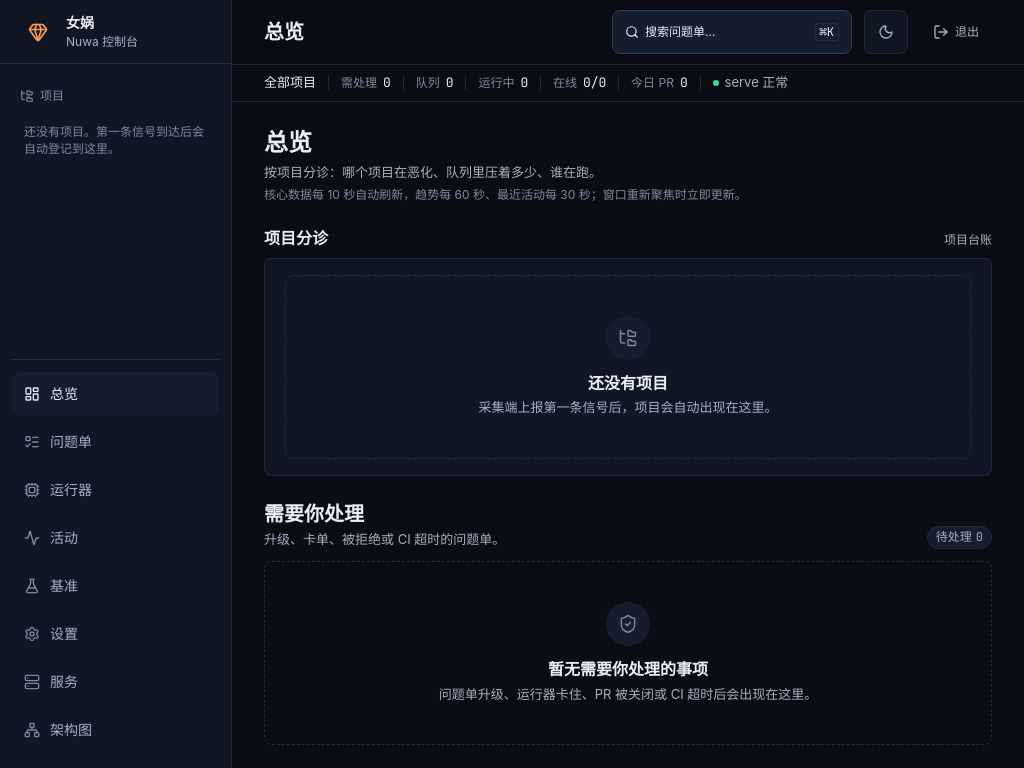
Test: AppShell › opens the command palette from the topbar search button
Check: the 1st heading "总览" is shown, box [264,20,304,44]
Click the button "搜索问题单… ⌘K" at (732, 32), box [612,10,852,54]
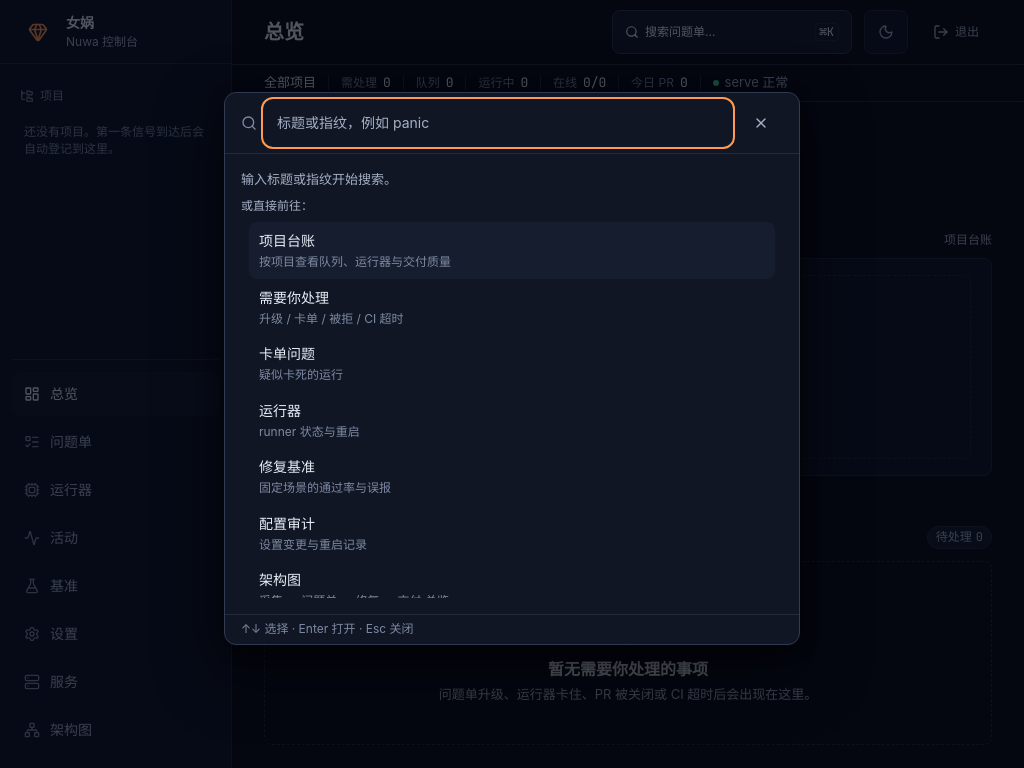
Check: the button "搜索问题单… ⌘K" is expanded, box [612,10,852,54]
Press Escape in the dialog named "搜索问题单", box [224,92,800,645]
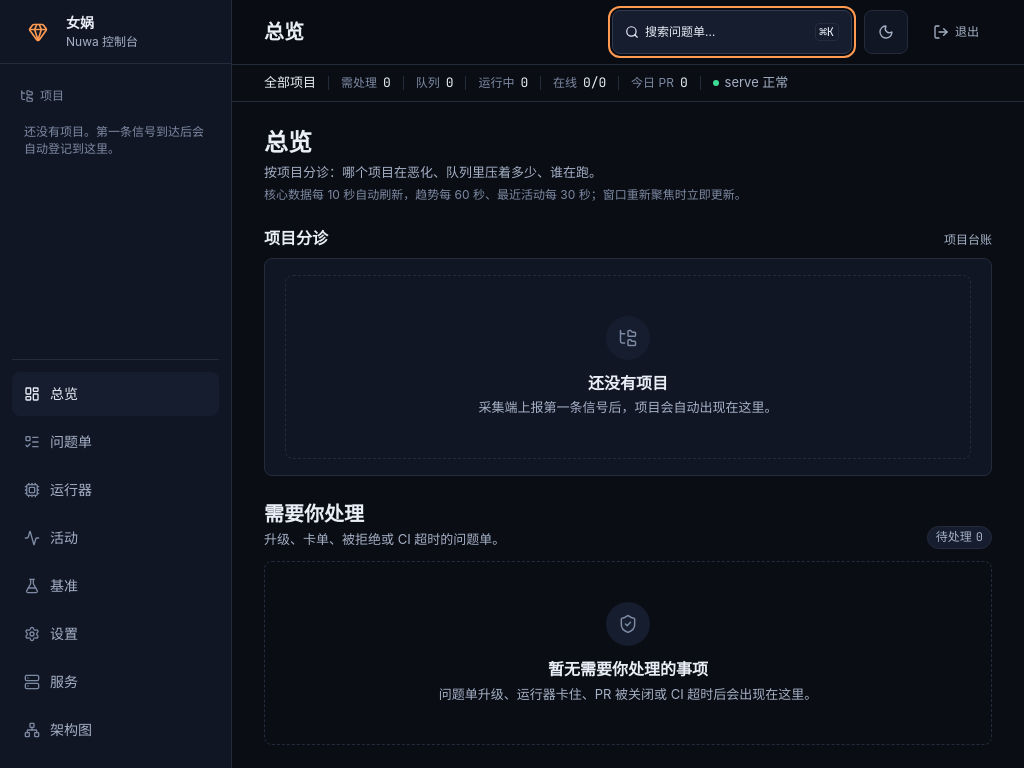
Check: the button "搜索问题单… ⌘K" is collapsed, box [612,10,852,54]
